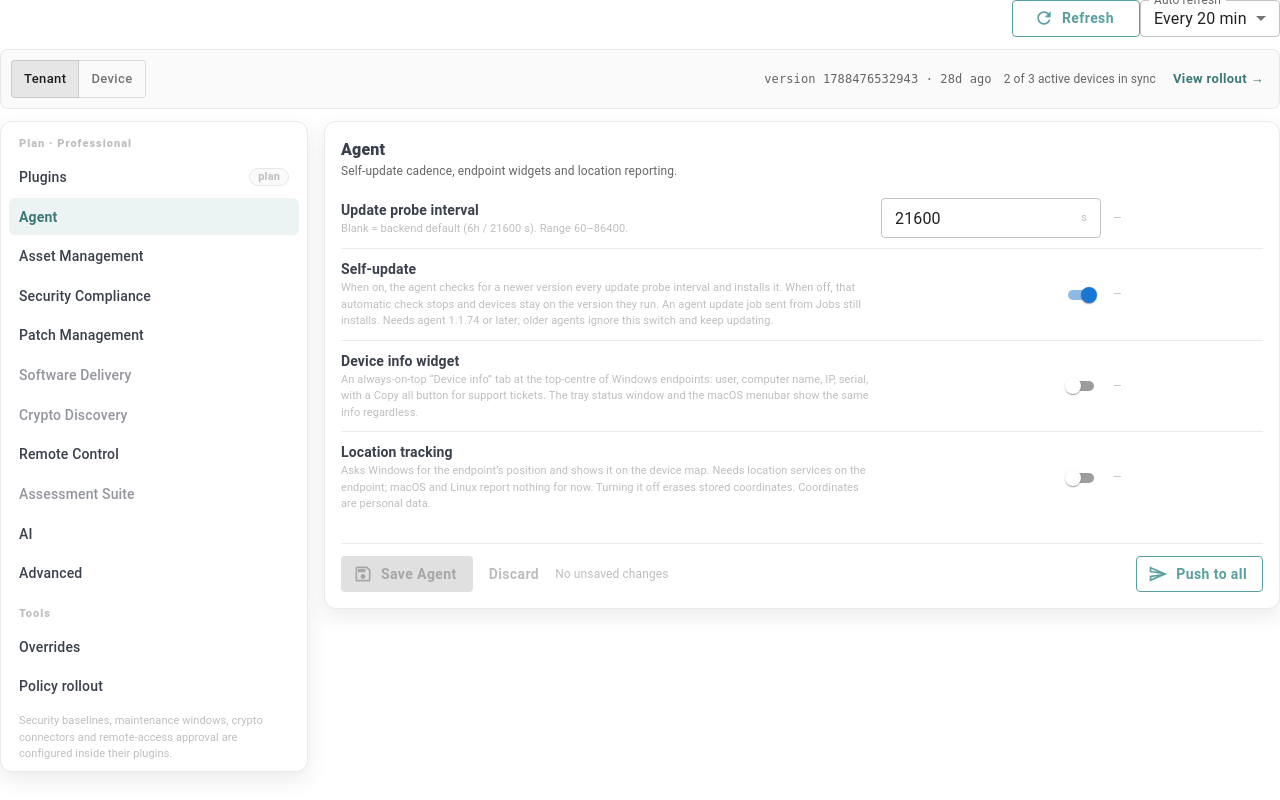
Test: saving the tenant policy › shows the diff first, then PATCHes ONLY the touched domain with If-Match and no plugin block
Check: the button "Save Agent" is disabled, box [341,556,473,592]
Replace the text in the number field named "Update probe interval" with "7200" at (979,218), box [881,198,1077,238]
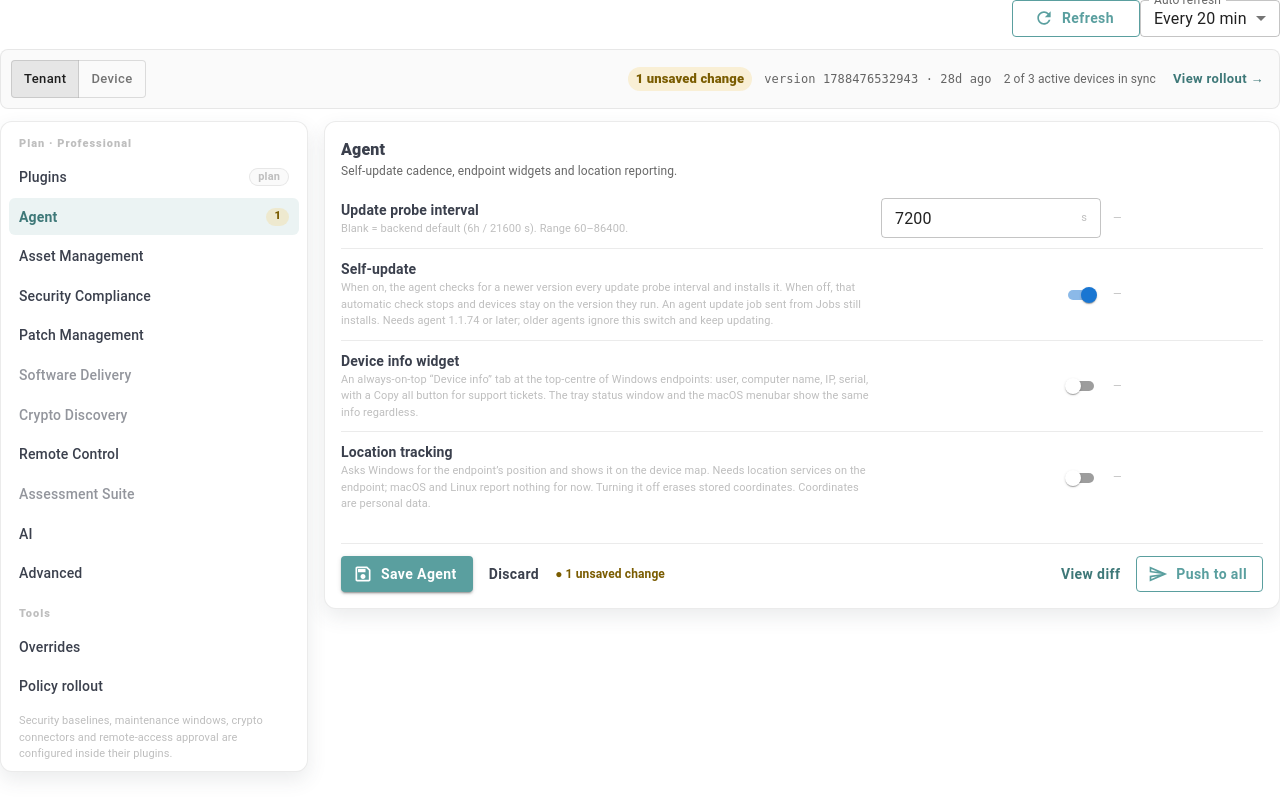
Check: the text "1 unsaved change" is shown, box [628,69,752,89]
Check: the element named "1 unsaved change in Agent" is shown, box [266,208,289,226]
Click the button "Save Agent".
click(407, 574)  # box [341,556,473,592]
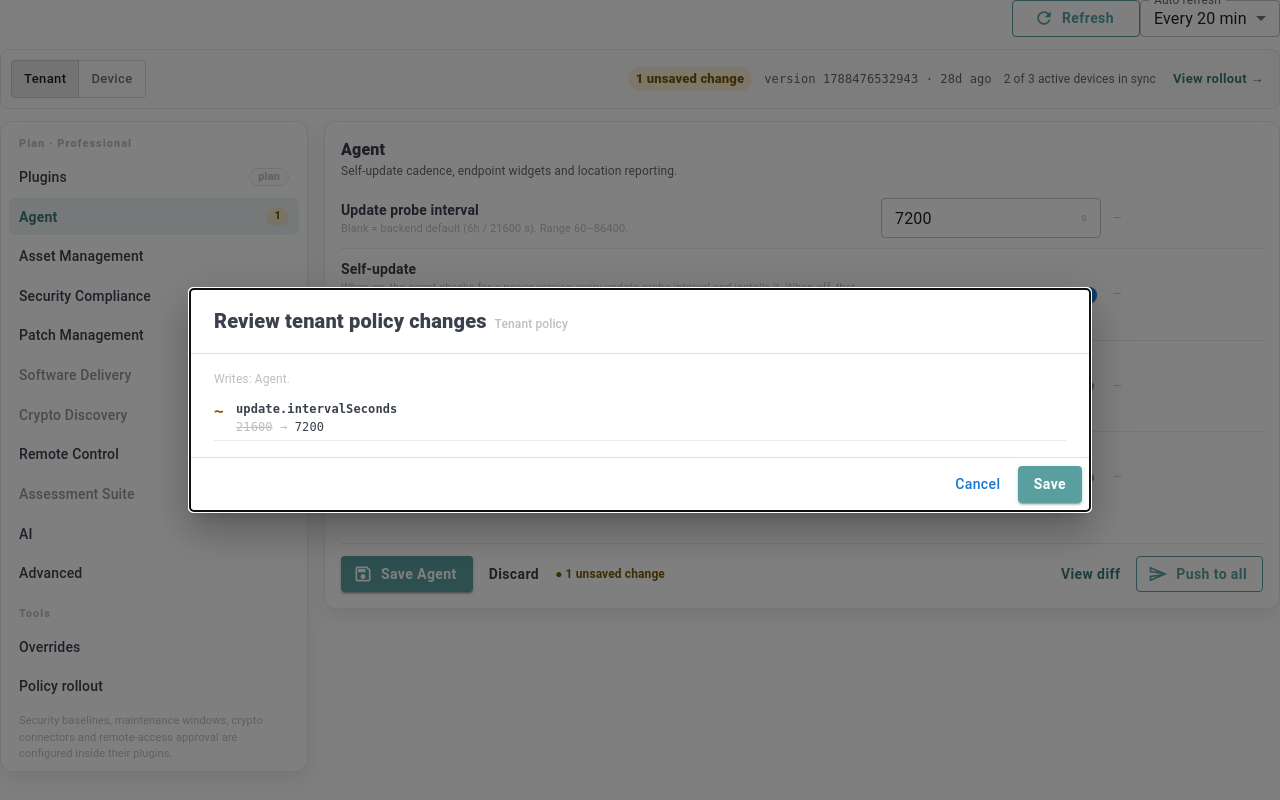
Check: the text "update.intervalSeconds" is shown, box [236,402,397,416]
Check: the text "21600" is shown, box [236,420,273,434]
Check: the text "7200" is shown, box [295,420,324,434]
Click the button "Save".
click(1050, 485)  # box [1018,466,1082,503]
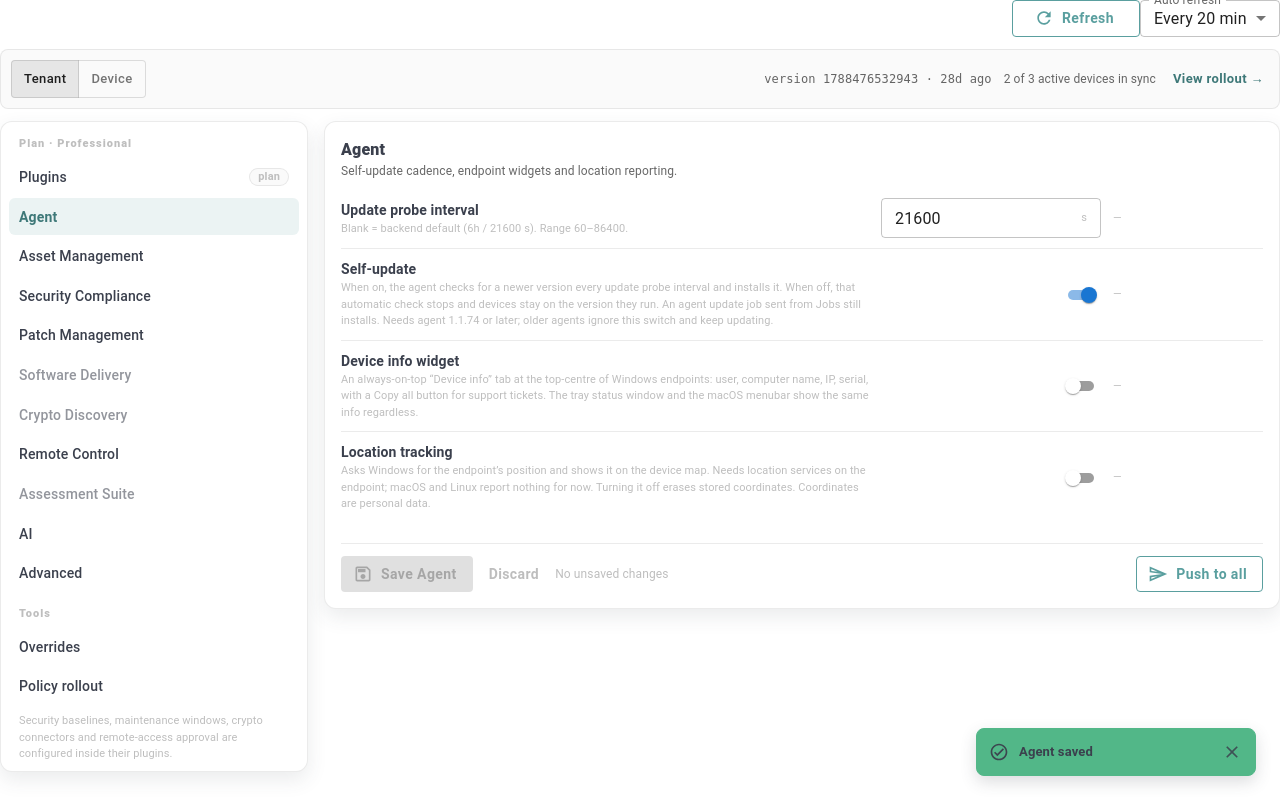
Check: the text "Agent saved" is shown, box [1019,744,1093,759]
